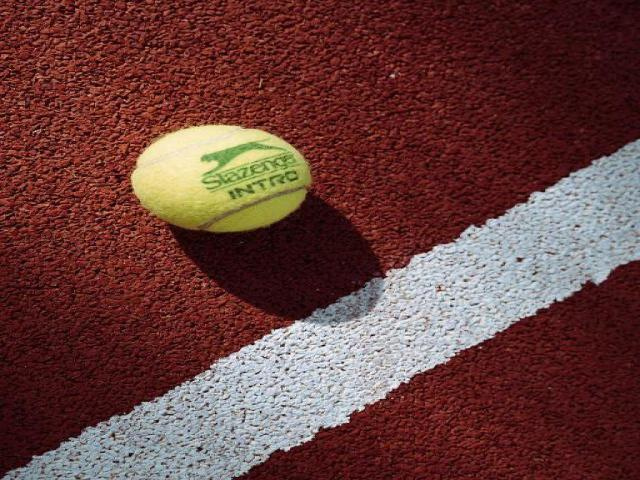tennis-ball: (131, 125, 311, 234)
